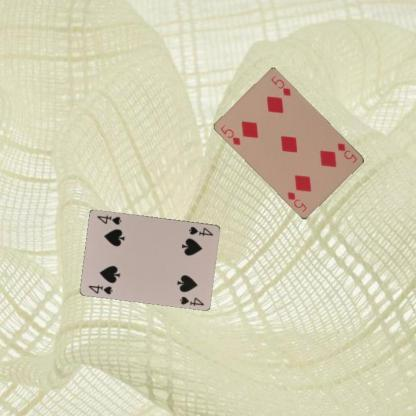4s: (86, 282, 115, 296), (186, 223, 214, 237)
5d: (335, 140, 359, 164), (219, 122, 242, 146)
